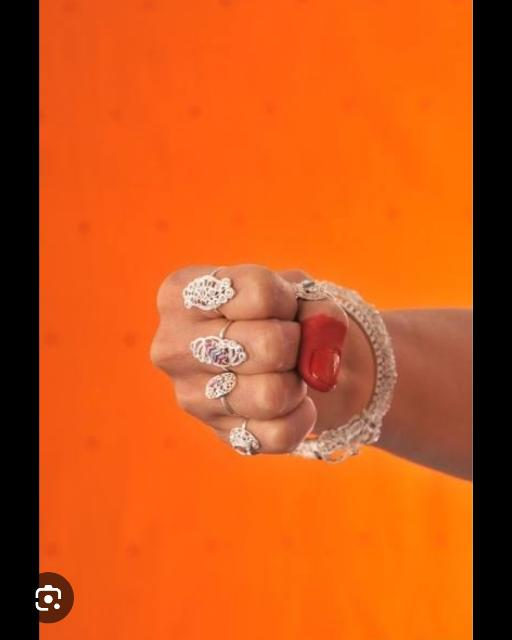mushti: (149, 263, 399, 466)
